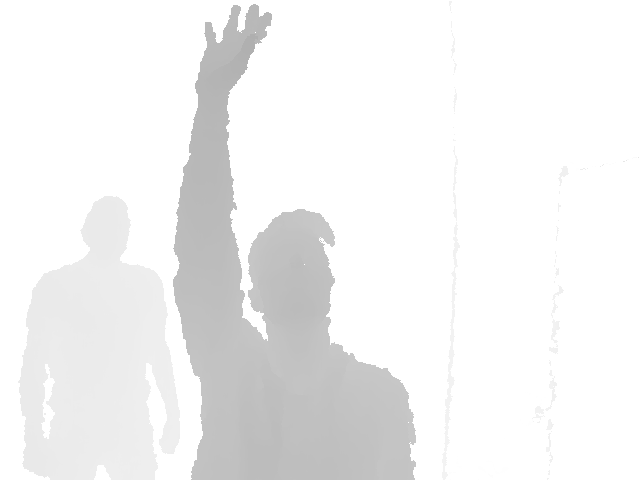hand: (196, 3, 273, 98)
head: (248, 209, 335, 351), (82, 195, 129, 264)
person: (172, 2, 419, 480), (19, 196, 181, 479)
